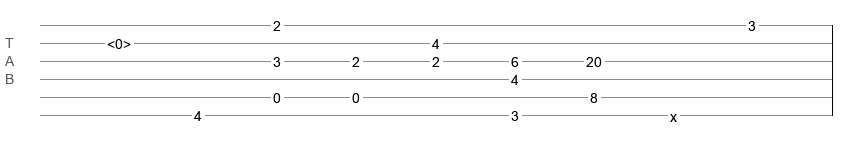0: (273, 90, 281, 100), (352, 90, 360, 100)
2: (273, 18, 281, 28), (352, 54, 360, 64), (432, 54, 440, 64)
20: (586, 54, 602, 64)
3: (273, 54, 281, 64), (511, 108, 519, 118), (748, 18, 756, 28)
4: (194, 108, 202, 118), (432, 36, 440, 46), (511, 72, 519, 82)
6: (511, 54, 519, 64)
8: (590, 90, 598, 100)
harmonic: (107, 36, 131, 46)
x: (670, 109, 677, 117)
